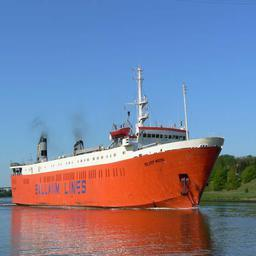Ship: (9, 116, 227, 215)
